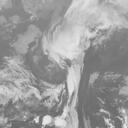cyclone: (40, 14, 93, 68)
